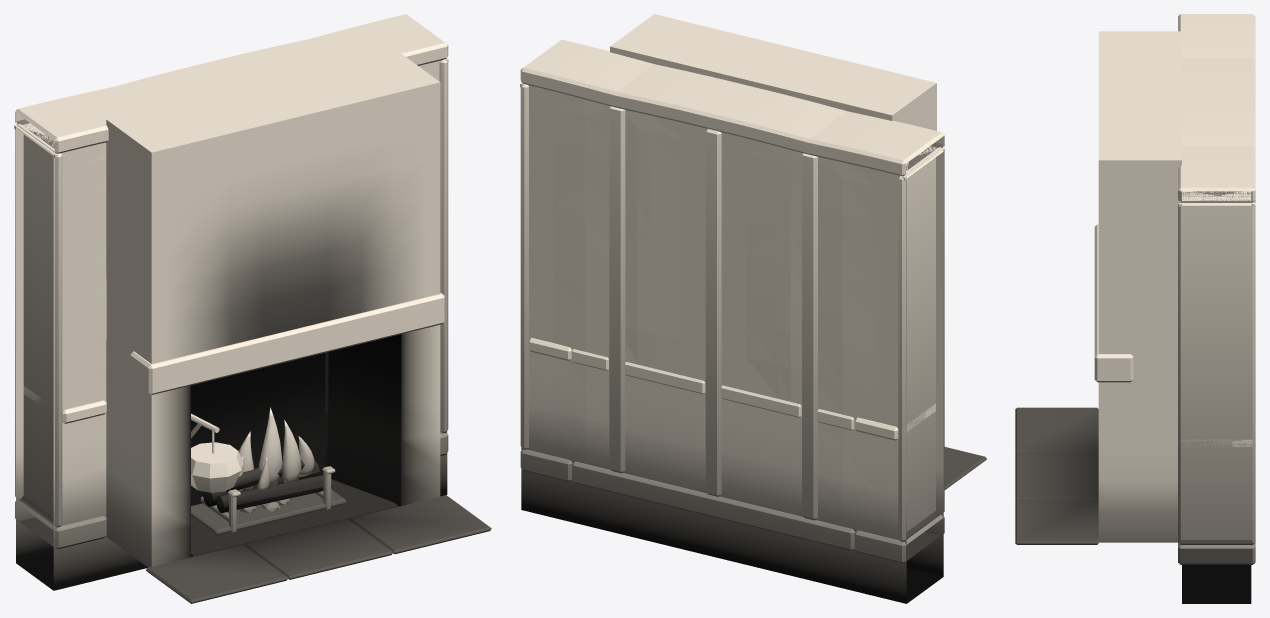
The model's file is SM_VKI_Wall_Timber_Fireplace_300_Full.fbx.
3 views of the same model, side by side, from view 1: azimuth 30°, elevation 25°; view 2: azimuth 150°, elevation 25°; view 3: azimuth 270°, elevation 25° (orthographic). The views are drawn at different scales.
Parts seen in each view (by area): view 1: SM_VKI_Wall_Timber_Fireplace_300_Full.001; view 2: SM_VKI_Wall_Timber_Fireplace_300_Full.001; view 3: SM_VKI_Wall_Timber_Fireplace_300_Full.001.
Part boxes in pixels (x1,y1,x2,y2): SM_VKI_Wall_Timber_Fireplace_300_Full.001: (14,14,491,603); SM_VKI_Wall_Timber_Fireplace_300_Full.001: (520,14,986,603); SM_VKI_Wall_Timber_Fireplace_300_Full.001: (1015,14,1255,603).
Size of the model in its own units: 3 by 3.34 by 1.73.
